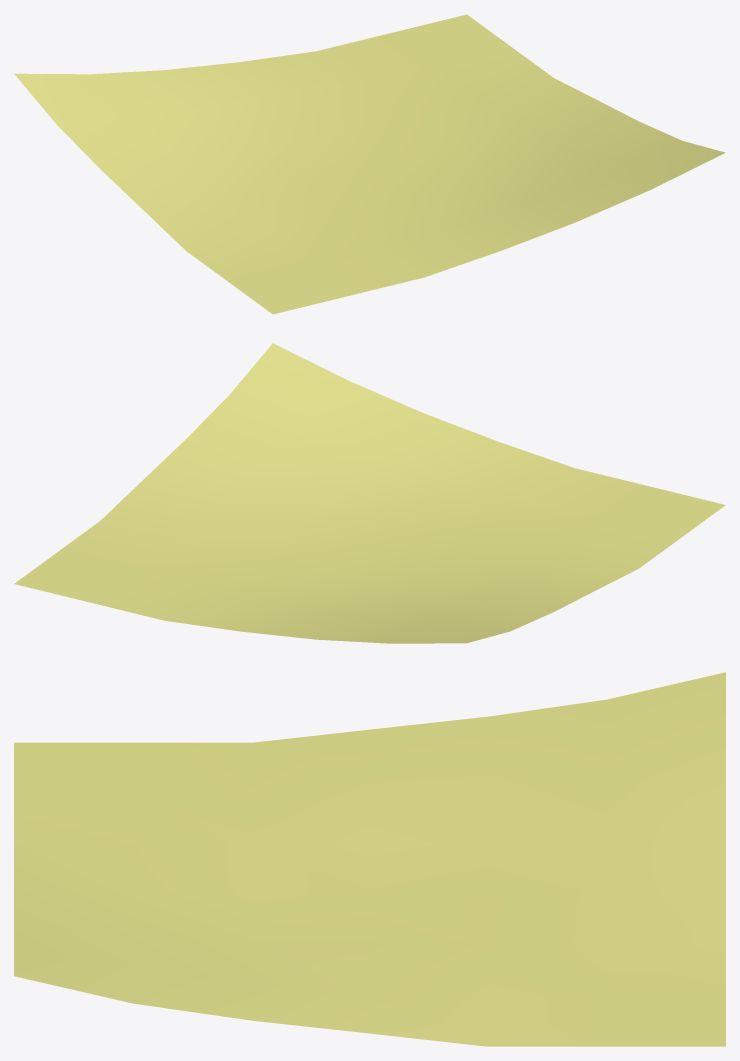
The model's file is S_PostIt2.fbx.
3 views of the same model, one above another, from view 1: azimuth 30°, elevation 25°; view 2: azimuth 150°, elevation 25°; view 3: azimuth 270°, elevation 25° (orthographic). The views are drawn at different scales.
Parts seen in each view (by area): view 1: PostIt2.001; view 2: PostIt2.001; view 3: PostIt2.001.
Part boxes in pixels (bbox=[...]): PostIt2.001: bbox=[14, 14, 725, 314]; PostIt2.001: bbox=[14, 343, 725, 643]; PostIt2.001: bbox=[14, 672, 725, 1046].
Bounding box in the file's own units: 8.21 × 0.9109 × 8.13.
